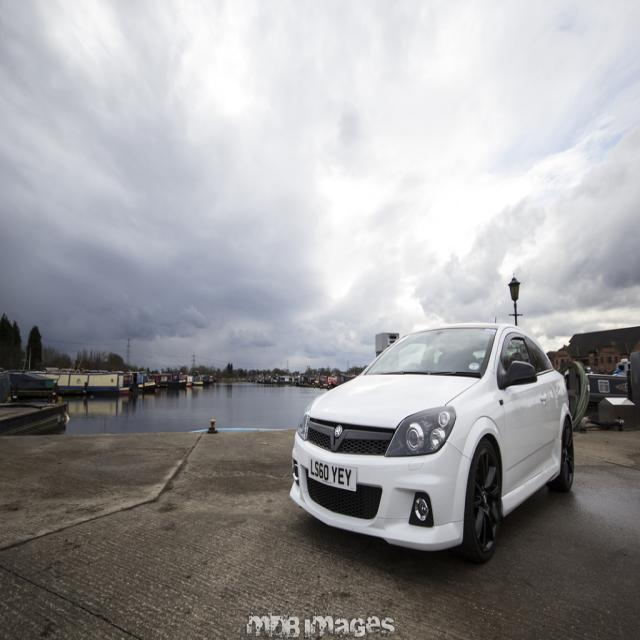car: (287, 313, 572, 560)
